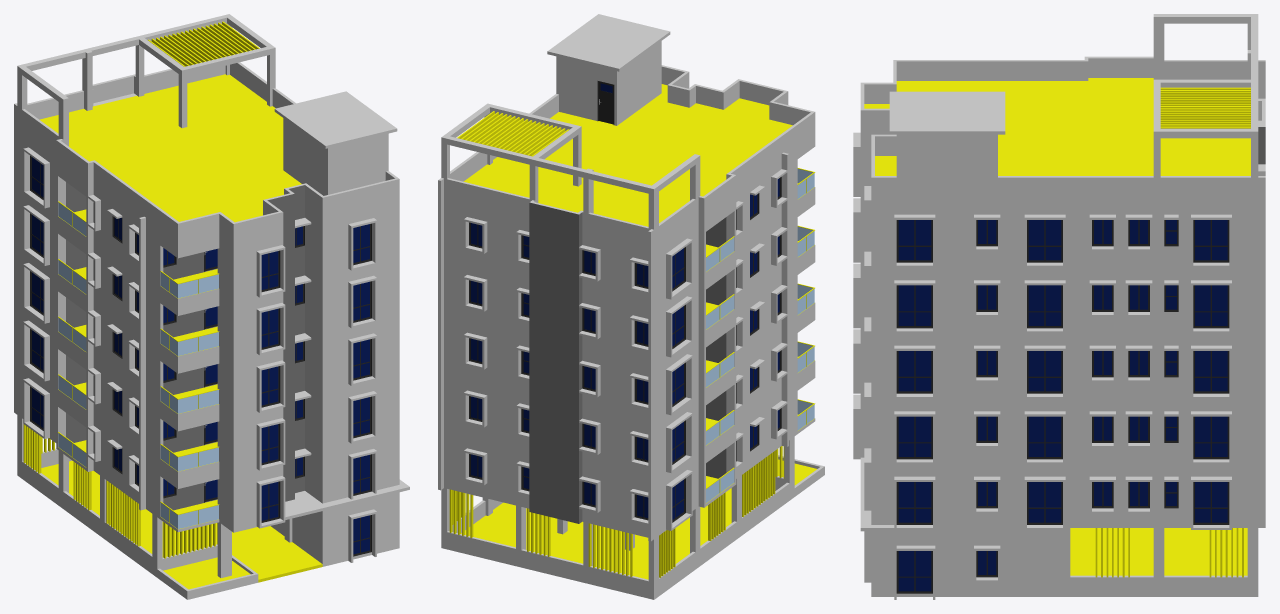
The model's file is apartment.glb.
3 views of the same model, side by side, from view 1: azimuth 30°, elevation 25°; view 2: azimuth 150°, elevation 25°; view 3: azimuth 270°, elevation 25° (orthographic). The views are drawn at different scales.
Visible parts, largest first — view 1: WALL, ROOF_1, GROUND FLOOR_1, BALCONY, LOUVER, WINDOW, DOOR, GROUND FLOOR_2; view 2: WALL, ROOF_1, GROUND FLOOR_1, LOUVER, WINDOW, BALCONY, ROOF_2; view 3: WALL, ROOF_1, WINDOW, GROUND FLOOR_1, LOUVER, GROUND FLOOR_2.
Boxes of the visible parts, left/top/right/bottom form: WALL: left=14, top=121, right=399, bottom=532; ROOF_1: left=14, top=62, right=399, bottom=241; GROUND FLOOR_1: left=17, top=415, right=409, bottom=599; BALCONY: left=58, top=201, right=219, bottom=532; LOUVER: left=17, top=14, right=275, bottom=558; WINDOW: left=30, top=156, right=371, bottom=522; DOOR: left=204, top=249, right=217, bottom=502; GROUND FLOOR_2: left=353, top=515, right=371, bottom=556; WALL: left=438, top=142, right=797, bottom=541; ROOF_1: left=438, top=14, right=815, bottom=249; GROUND FLOOR_1: left=441, top=436, right=824, bottom=599; LOUVER: left=441, top=103, right=784, bottom=577; WINDOW: left=469, top=177, right=781, bottom=522; BALCONY: left=706, top=129, right=815, bottom=506; ROOF_2: left=597, top=81, right=614, bottom=124; WALL: left=853, top=81, right=1265, bottom=531; ROOF_1: left=860, top=56, right=1265, bottom=197; WINDOW: left=896, top=220, right=1229, bottom=524; GROUND FLOOR_1: left=860, top=457, right=1258, bottom=599; LOUVER: left=1095, top=14, right=1258, bottom=577; GROUND FLOOR_2: left=896, top=551, right=997, bottom=593.
Bounding box in the file's own units: 12.34 × 21.79 × 17.37.
10 materials, 4 textured.
